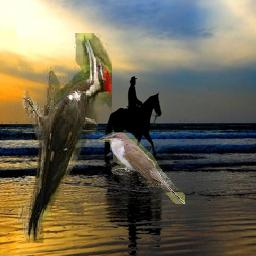Cuckoo: (99, 132, 186, 204)
Woodpecker: (18, 33, 112, 243)
